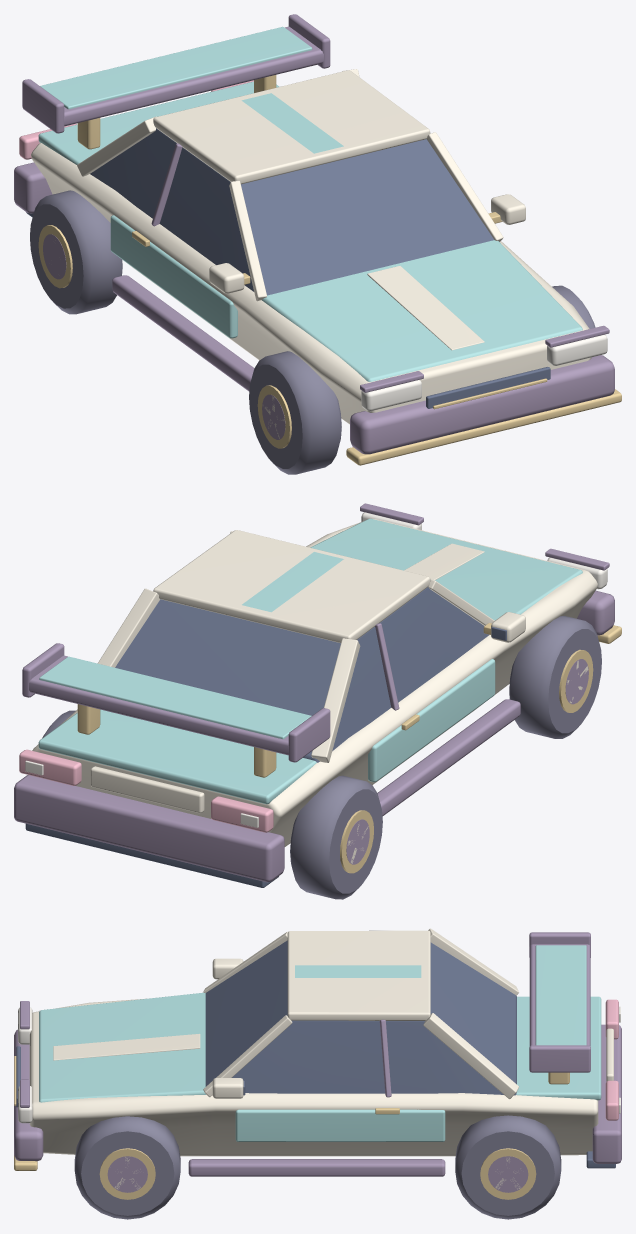
The model's file is DownhillCoupe.fbx.
3 renders of one model, top to bottom at view 1: azimuth 30°, elevation 25°; view 2: azimuth 150°, elevation 25°; view 3: azimuth 270°, elevation 25°, orthographic. The views are drawn at different scales.
Parts seen in each view (by area): view 1: CabinGlass, Hood, Roof, Body, FrontBumper, WheelFL, WheelRL, WingTop, DoorL, RearWing, SideSkirtL, RearDeck (+16 smaller); view 2: CabinGlass, Roof, RearBumper, Body, RearDeck, Hood, WheelRL, WheelFL, WingTop, DoorL, RearWing, SideSkirtL (+18 smaller); view 3: CabinGlass, Body, Hood, Roof, WheelRR, WheelFR, DoorR, WingTop, SideSkirtR, RearDeck, RearBumper, HoodCreamInset (+15 smaller).
Part boxes in pixels (x1,y1,x2,y2): CabinGlass: [90, 128, 493, 295]; Hood: [262, 240, 582, 381]; Roof: [153, 70, 430, 184]; Body: [31, 142, 591, 424]; FrontBumper: [350, 355, 614, 454]; WheelFL: [249, 351, 341, 474]; WheelRL: [30, 190, 122, 314]; WingTop: [40, 26, 312, 109]; DoorL: [110, 215, 237, 338]; RearWing: [64, 26, 323, 126]; SideSkirtL: [112, 275, 254, 391]; RearDeck: [38, 81, 279, 164]; CabinGlass: [115, 587, 489, 762]; Roof: [153, 530, 430, 643]; RearBumper: [14, 775, 284, 882]; Body: [32, 518, 597, 846]; RearDeck: [38, 709, 316, 804]; Hood: [310, 518, 582, 620]; WheelRL: [290, 775, 382, 899]; WheelFL: [509, 615, 601, 738]; WingTop: [39, 656, 311, 739]; DoorL: [368, 659, 495, 782]; RearWing: [29, 655, 288, 755]; SideSkirtL: [377, 699, 520, 816]; CabinGlass: [205, 940, 516, 1095]; Body: [29, 998, 598, 1156]; Hood: [39, 992, 206, 1102]; Roof: [287, 930, 430, 1020]; WheelRR: [455, 1115, 561, 1219]; WheelFR: [74, 1116, 180, 1219]; DoorR: [235, 1109, 445, 1141]; WingTop: [535, 945, 586, 1045]; SideSkirtR: [188, 1159, 445, 1176]; RearDeck: [516, 996, 601, 1100]; RearBumper: [592, 1024, 621, 1163]; HoodCreamInset: [53, 1033, 200, 1060].
Size of the model in its own units: 155 by 105 by 310.
